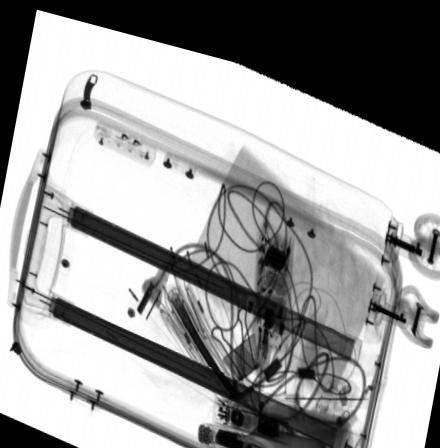Knife: (244, 377, 367, 387)
